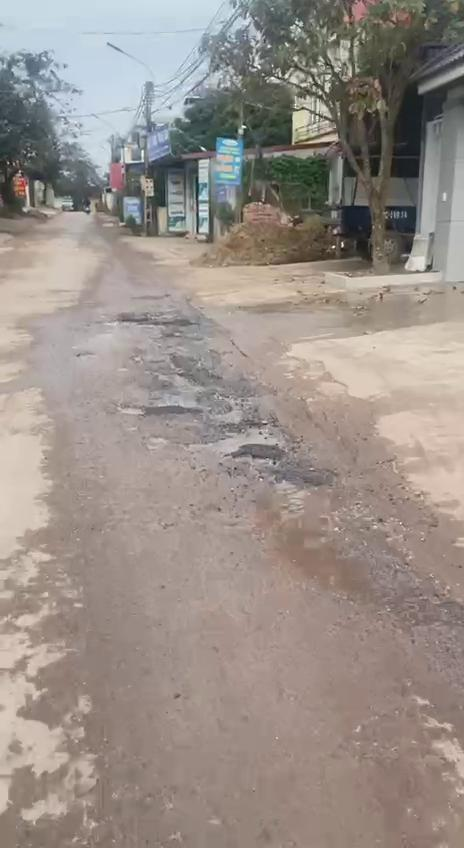pothole: (261, 504, 464, 632), (178, 392, 321, 495), (146, 354, 208, 412), (109, 395, 146, 416)
